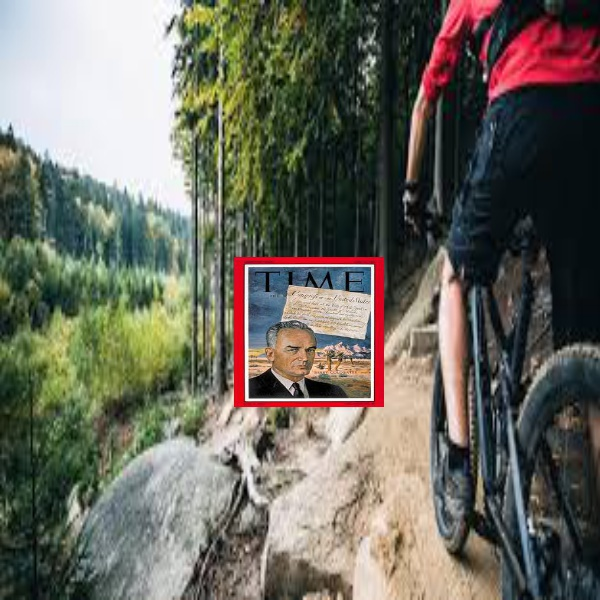time_cover: (228, 251, 387, 410)
